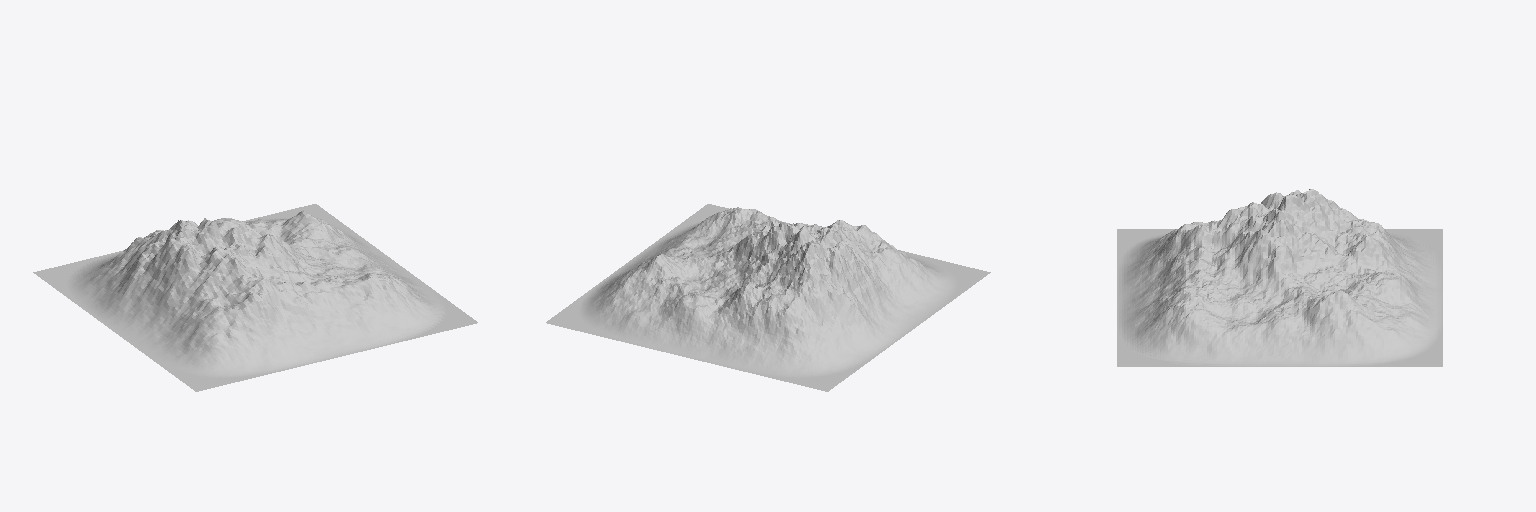
Rendered from Mountain1.obj.
3 renders of one model, left to right at view 1: azimuth 30°, elevation 25°; view 2: azimuth 150°, elevation 25°; view 3: azimuth 270°, elevation 25°, orthographic.
Parts seen in each view (by area): view 1: Mountain1_Landscape.002; view 2: Mountain1_Landscape.002; view 3: Mountain1_Landscape.002.
Boxes of the visible parts, x1,y1,x2,y2 form: Mountain1_Landscape.002: [33, 204, 477, 391]; Mountain1_Landscape.002: [546, 204, 990, 391]; Mountain1_Landscape.002: [1117, 189, 1442, 366].
Bounding box in the file's own units: 8.23 × 2.32 × 8.23.